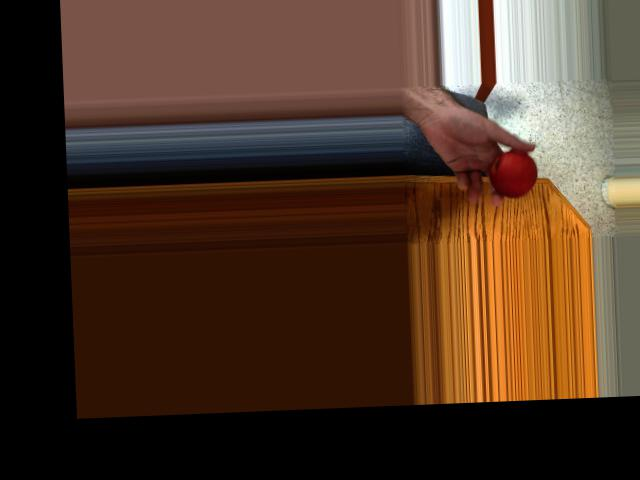apple: (488, 142, 541, 198)
